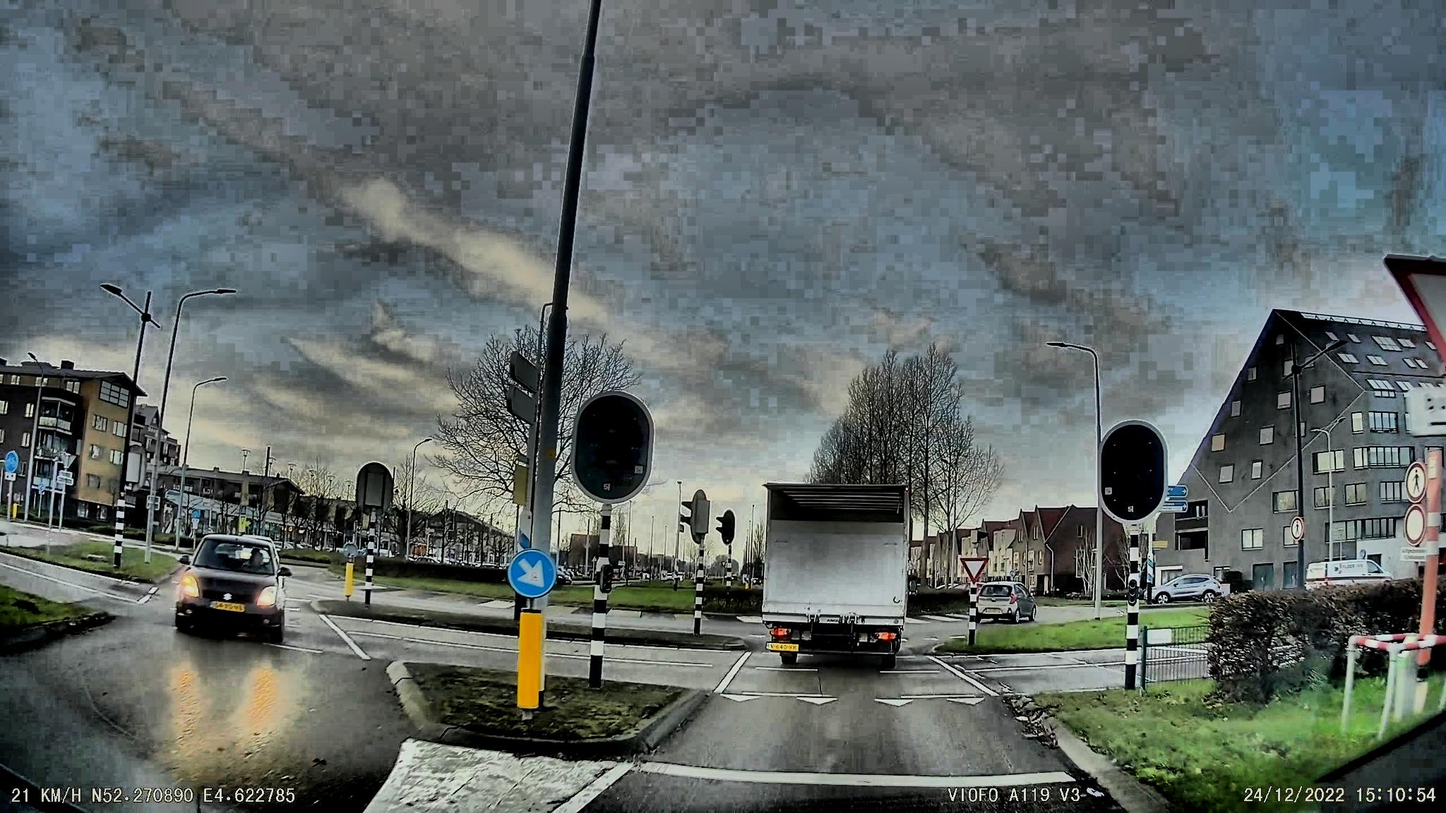Roads: (19, 621, 1123, 813)
